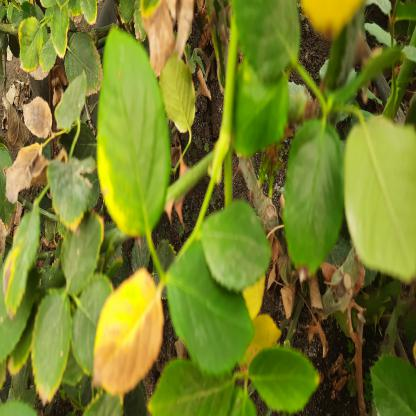black-spot: (87, 266, 167, 398), (31, 286, 73, 400), (3, 202, 40, 314), (49, 151, 92, 231), (16, 15, 46, 75)
normal: (94, 26, 164, 236), (166, 236, 252, 370), (286, 116, 352, 272), (202, 195, 274, 293), (250, 328, 321, 408)
